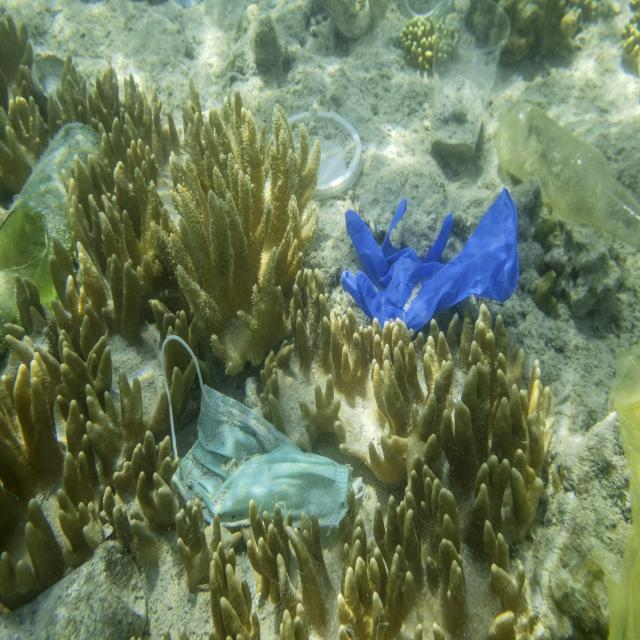Mask: (162, 333, 366, 532)
